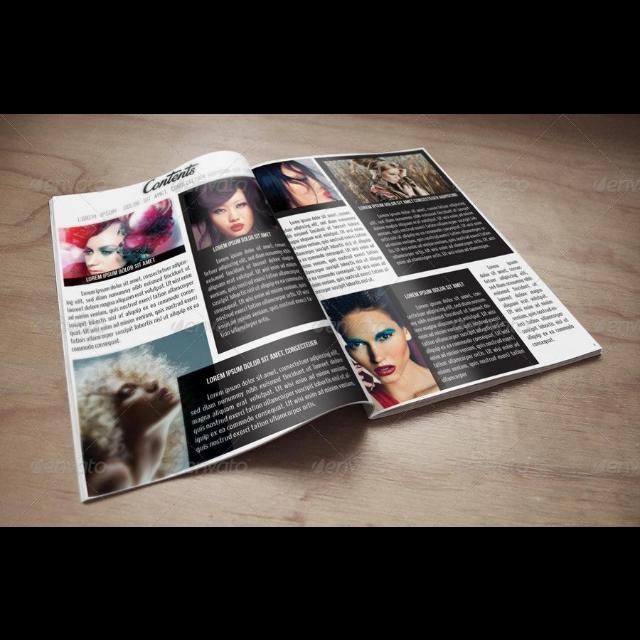papel: (50, 146, 604, 504)
